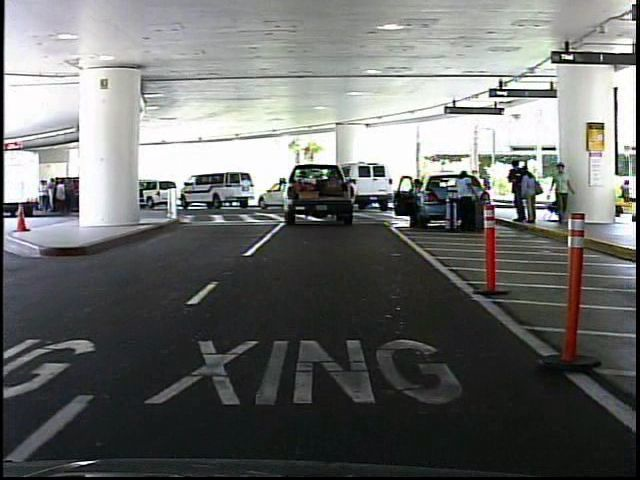person: (450, 165, 480, 236), (546, 159, 572, 227)
